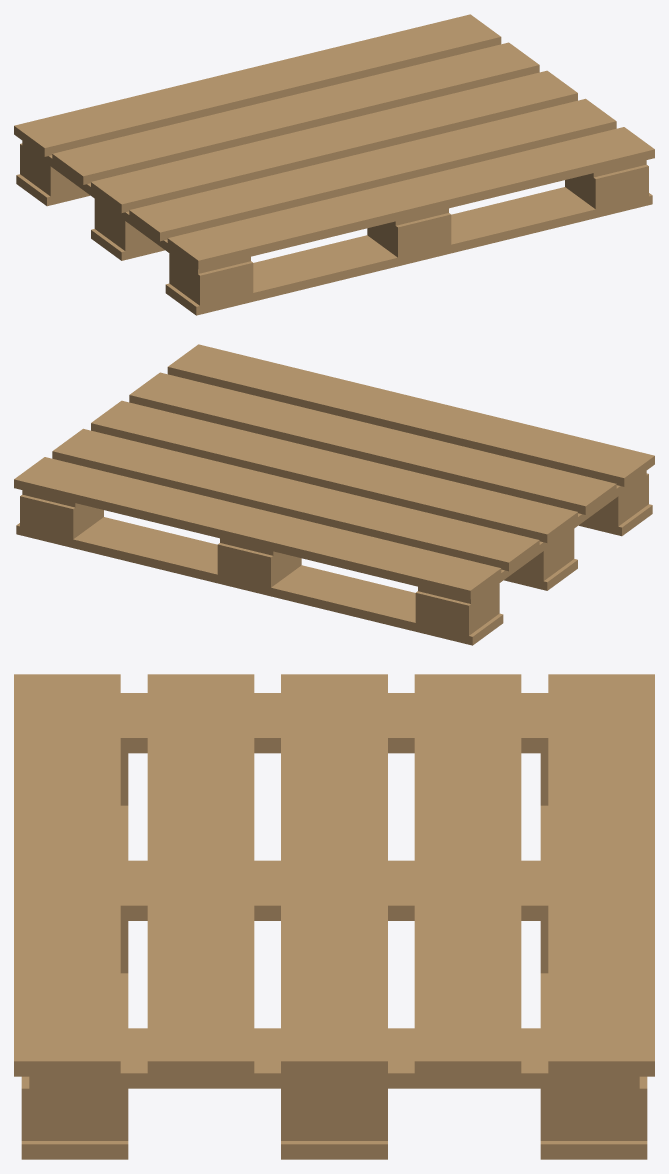
The model's file is pallet_euro.obj.
3 renders of one model, top to bottom at view 1: azimuth 30°, elevation 25°; view 2: azimuth 150°, elevation 25°; view 3: azimuth 270°, elevation 25°, orthographic. The views are drawn at different scales.
Size of the model in its own units: 1.2 by 0.142 by 0.84.
